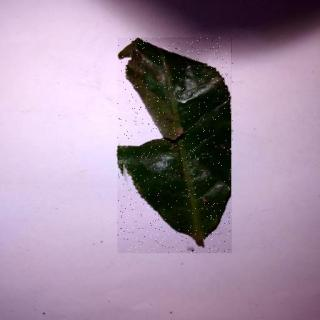Bird Eye Spot: (119, 39, 234, 254)
